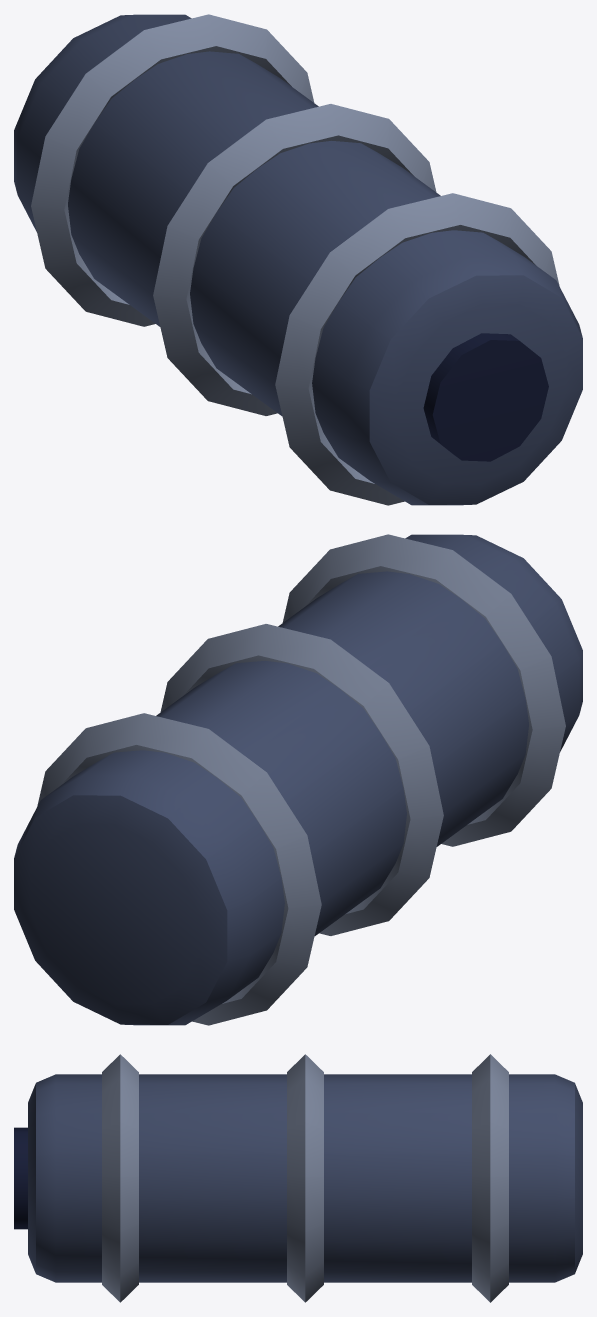
The model's file is mod_silencer.glb.
3 renders of one model, top to bottom at view 1: azimuth 30°, elevation 25°; view 2: azimuth 150°, elevation 25°; view 3: azimuth 270°, elevation 25°, orthographic. The views are drawn at different scales.
Parts seen in each view (by area): view 1: body; view 2: body; view 3: body.
Part boxes in pixels (x1,y1,x2,y2): body: (14,14,582,505); body: (14,534,582,1025); body: (14,1054,582,1302).
Bounding box in the file's own units: 0.11 × 0.1072 × 0.246.
